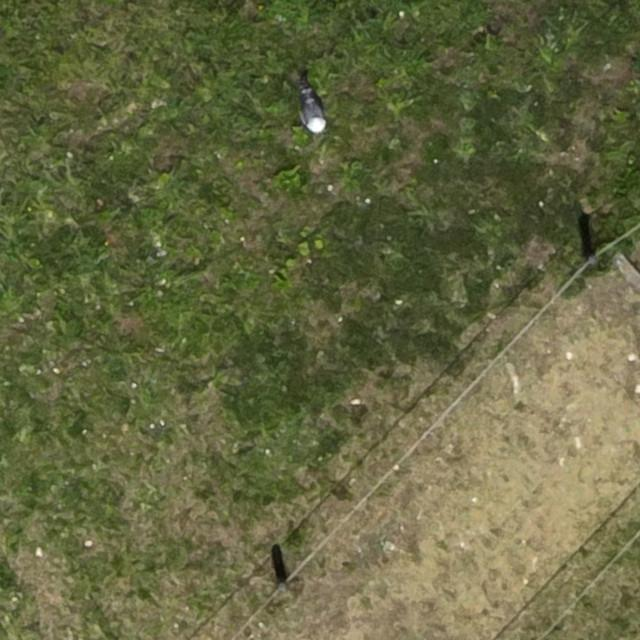umineko: (302, 95, 324, 133)
